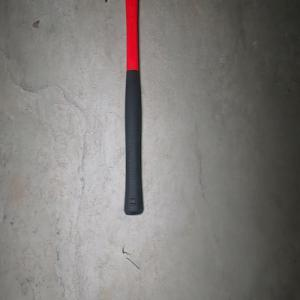Hammer: (105, 0, 163, 216)
